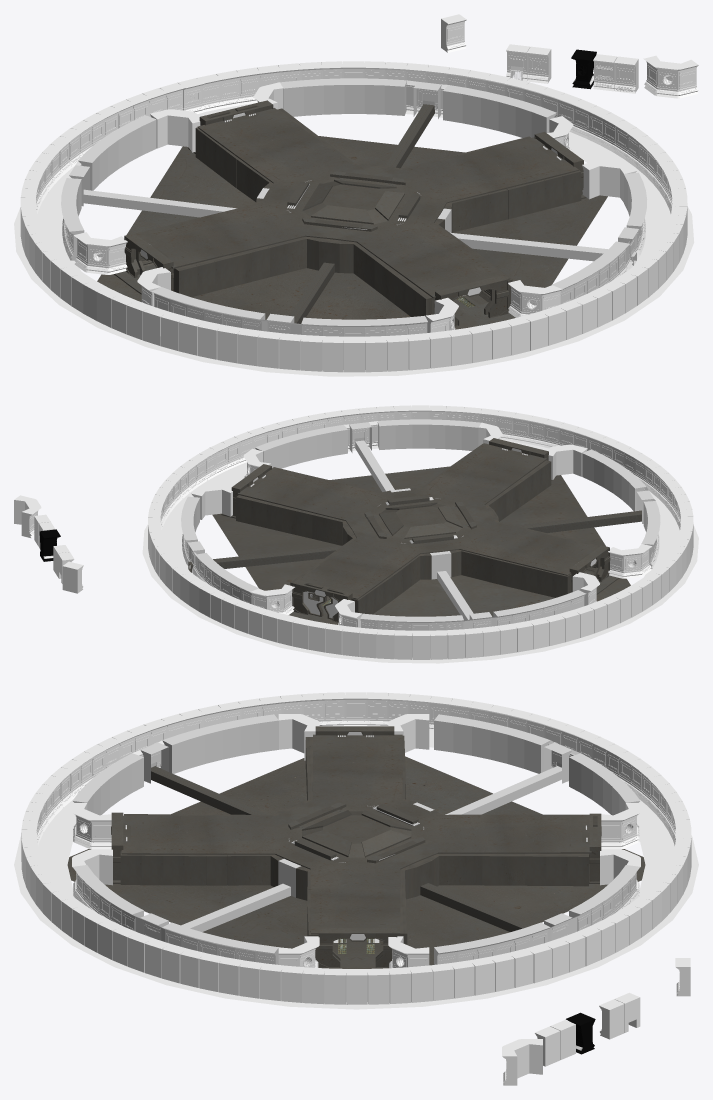
The model's file is Map02 04.fbx.
3 views of the same model, one above another, from view 1: azimuth 30°, elevation 25°; view 2: azimuth 150°, elevation 25°; view 3: azimuth 270°, elevation 25° (orthographic). The views are drawn at different scales.
Visible parts, largest first — view 1: Cube.023, Hoctogone milieu.001, Cube.028, Plane, Circle, Cube.021, Cube.013, Cube.027, Porte, Cube.019, Cube.020, Cube.014 (+14 smaller); view 2: Cube.023, Hoctogone milieu.001, Cube.028, Plane, Circle, Cube.021, Cube.013, Cube.009, Porte, Cube.019, Cube.011, Cube.020 (+11 smaller); view 3: Cube.023, Hoctogone milieu.001, Cube.028, Plane, Circle, Cube.013, Cube.021, Porte, Cube.027, Cube.009, Cube.019, Cube.014 (+13 smaller).
Boxes of the visible parts, x1,y1,x2,y2 form: Cube.023: (20, 61, 687, 372); Hoctogone milieu.001: (135, 108, 578, 298); Cube.028: (61, 78, 647, 336); Plane: (97, 136, 607, 319); Circle: (14, 103, 694, 376); Cube.021: (74, 116, 636, 306); Cube.013: (150, 82, 562, 332); Cube.027: (83, 188, 636, 264); Porte: (124, 100, 583, 326); Cube.019: (173, 108, 530, 316); Cube.020: (141, 127, 581, 307); Cube.014: (267, 147, 439, 288); Cube.023: (148, 405, 693, 659); Hoctogone milieu.001: (237, 443, 598, 599); Cube.028: (181, 419, 660, 630); Plane: (212, 466, 630, 616); Circle: (142, 439, 698, 663); Cube.021: (191, 448, 651, 605); Cube.013: (250, 422, 587, 627); Cube.009: (188, 510, 641, 572); Porte: (231, 438, 610, 622); Cube.019: (236, 460, 600, 598); Cube.011: (350, 475, 491, 592); Cube.020: (313, 444, 571, 614); Cube.023: (21, 692, 691, 1004); Hoctogone milieu.001: (121, 734, 591, 934); Cube.028: (72, 714, 640, 964); Plane: (67, 756, 645, 965); Circle: (14, 731, 698, 1009); Cube.013: (72, 803, 640, 895); Cube.021: (278, 714, 429, 968); Porte: (111, 726, 601, 967); Cube.027: (181, 766, 561, 931); Cube.009: (151, 766, 530, 931); Cube.019: (124, 737, 589, 944); Cube.014: (230, 782, 482, 899).
Size of the model in its own units: 7672 by 544 by 6357.
